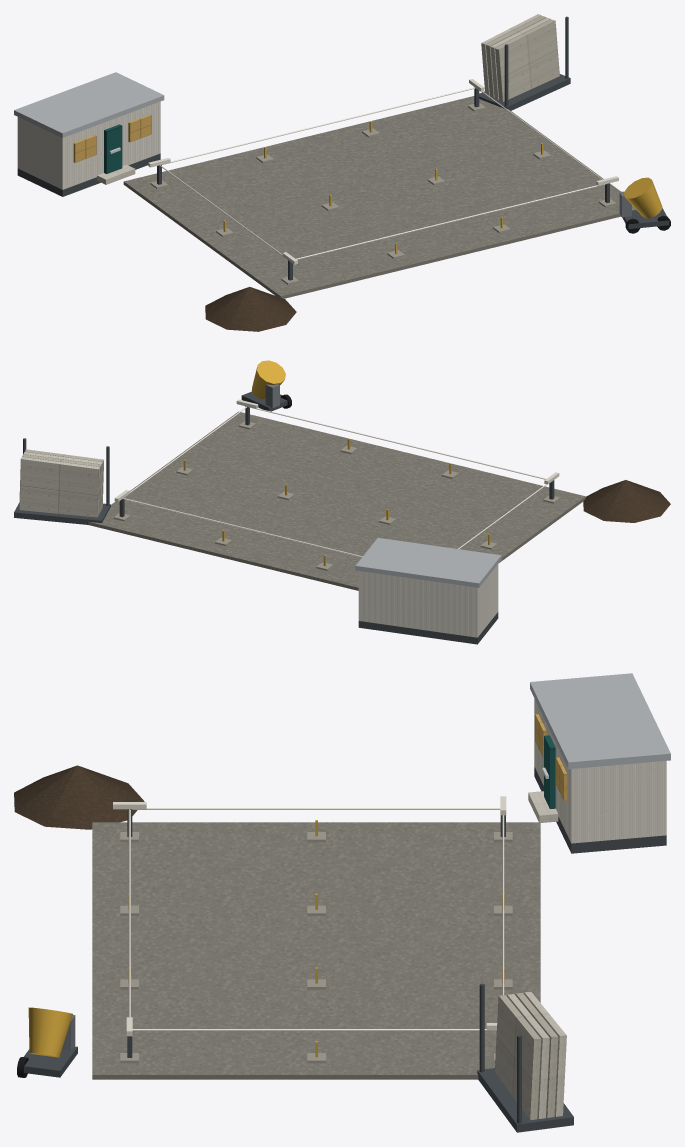
File: fun-6-site.glb
3 views of the same model, one above another, from view 1: azimuth 30°, elevation 25°; view 2: azimuth 150°, elevation 25°; view 3: azimuth 270°, elevation 25° (orthographic). The views are drawn at different scales.
Bounding box in the file's own units: 22.78 × 2.95 × 17.59.
Materials: 15 (7 with a texture image).
